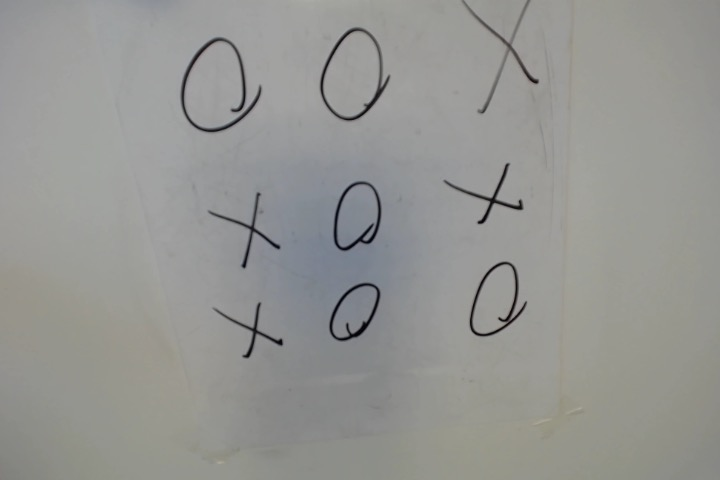0: (176, 32, 266, 134), (309, 22, 394, 124), (458, 259, 536, 346), (323, 279, 388, 349), (328, 176, 384, 253)
x: (464, 2, 547, 117), (204, 189, 283, 269), (442, 162, 526, 228), (212, 293, 286, 362)
